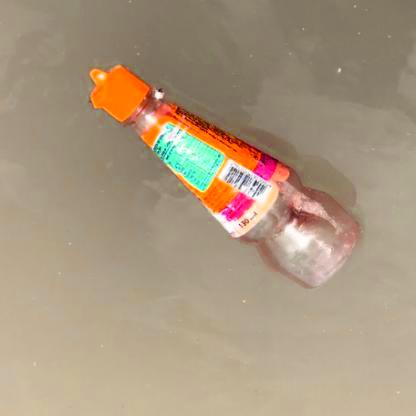Glass: (82, 50, 364, 292)
